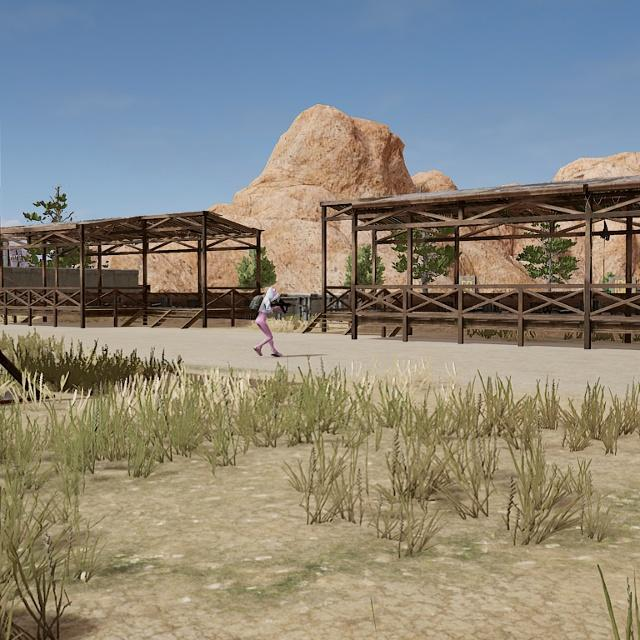head: (264, 284, 280, 301)
people: (251, 283, 284, 360)
